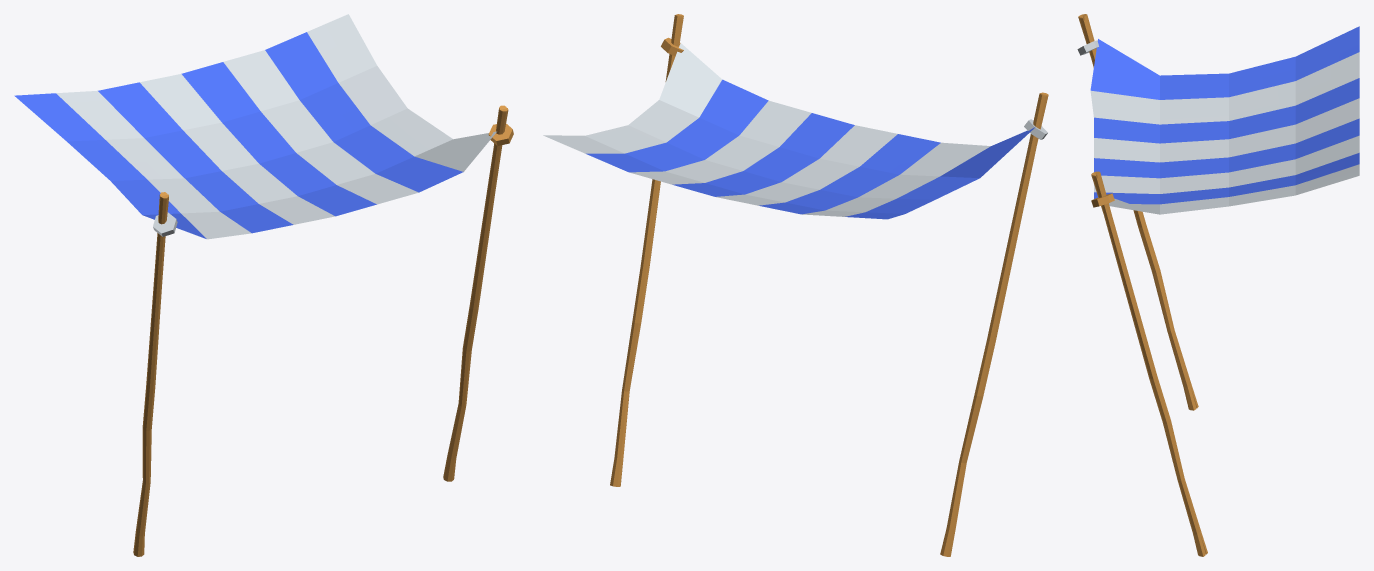
The model's file is Beach_House_Canopy_01.fbx.
3 renders of one model, left to right at view 1: azimuth 30°, elevation 25°; view 2: azimuth 150°, elevation 25°; view 3: azimuth 270°, elevation 25°, orthographic. The views are drawn at different scales.
Parts seen in each view (by area): view 1: Beach_House_Canopy_01; view 2: Beach_House_Canopy_01; view 3: Beach_House_Canopy_01.
Part boxes in pixels (box(x1,y1,x2,y2)): Beach_House_Canopy_01: box(14, 14, 513, 556); Beach_House_Canopy_01: box(543, 14, 1048, 556); Beach_House_Canopy_01: box(1077, 14, 1359, 556).
Size of the model in its own units: 3.95 by 4.34 by 2.89.
